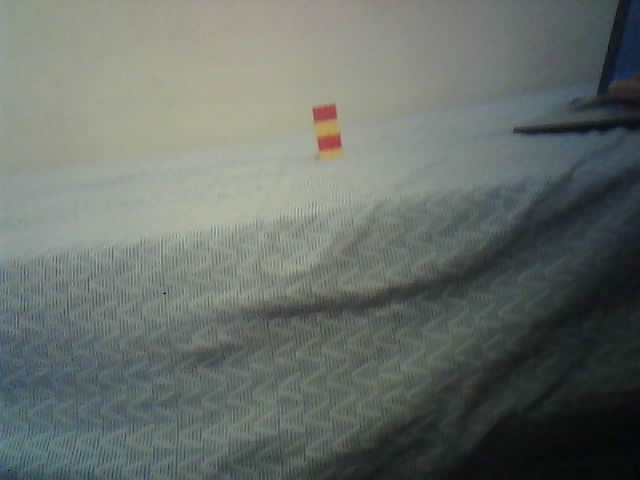lego: (312, 103, 345, 161)
